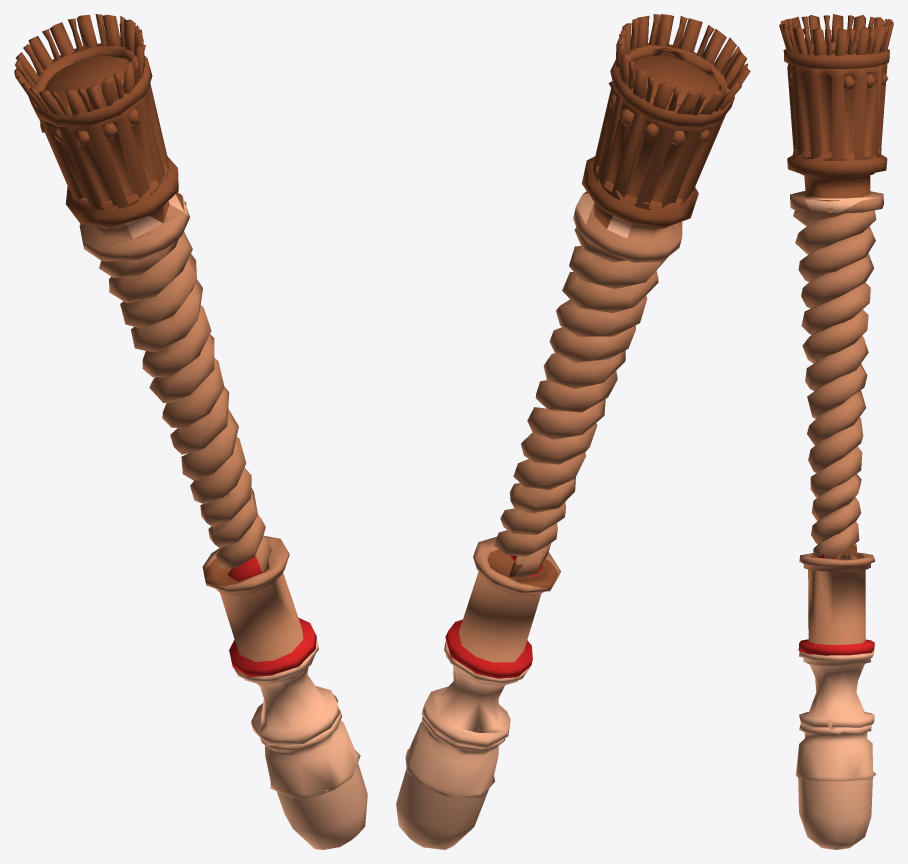
The model's file is ANTORCHABIEN.fbx.
3 renders of one model, left to right at view 1: azimuth 30°, elevation 25°; view 2: azimuth 150°, elevation 25°; view 3: azimuth 270°, elevation 25°, orthographic. The views are drawn at different scales.
Visible parts, largest first — view 1: Torch; view 2: Torch; view 3: Torch.
Part boxes in pixels (x1,y1,x2,y2): Torch: [14, 14, 367, 849]; Torch: [396, 14, 750, 849]; Torch: [779, 14, 893, 849].
Size of the model in its own units: 87.35 by 214 by 30.14.
1 material, 1 textured.
